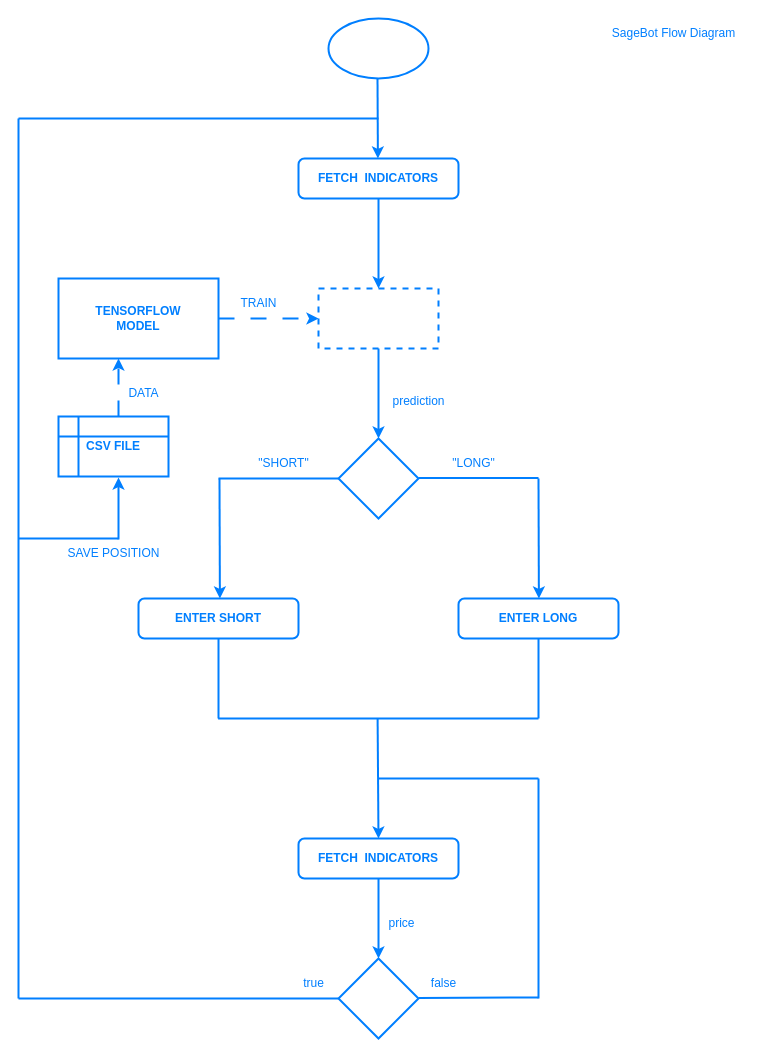
Image size: 765x1056. Some labels were removed from this diagram. The shapes that lost their labels are listed below. From the top down, each one's box as (x1, y1, x2, y2) in pixels, then its label:
(327, 17, 429, 79): START
(317, 287, 439, 349): TRAINED MODEL
(337, 957, 419, 1039): TP or SL
